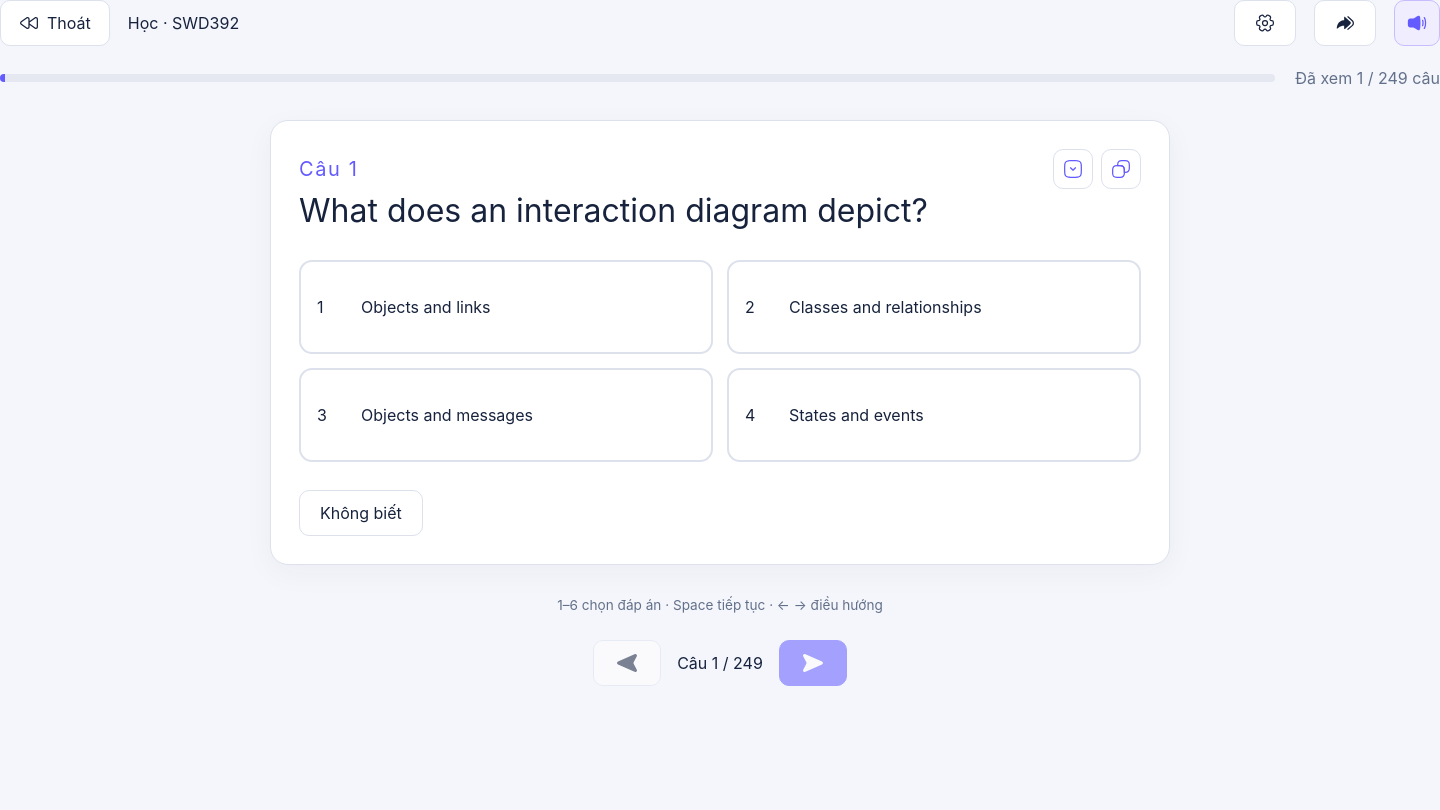
Test: StudyShell interactions and sound › restores focus, closes with Escape, traps Tab, and exposes progress semantics
The width and height of the screenshot is (1440, 810).
Expected: the text "Câu 1" is shown, [299,154,358,184]
Click the button named "Cài đặt" at [1265, 23], box [1234,0,1296,46]
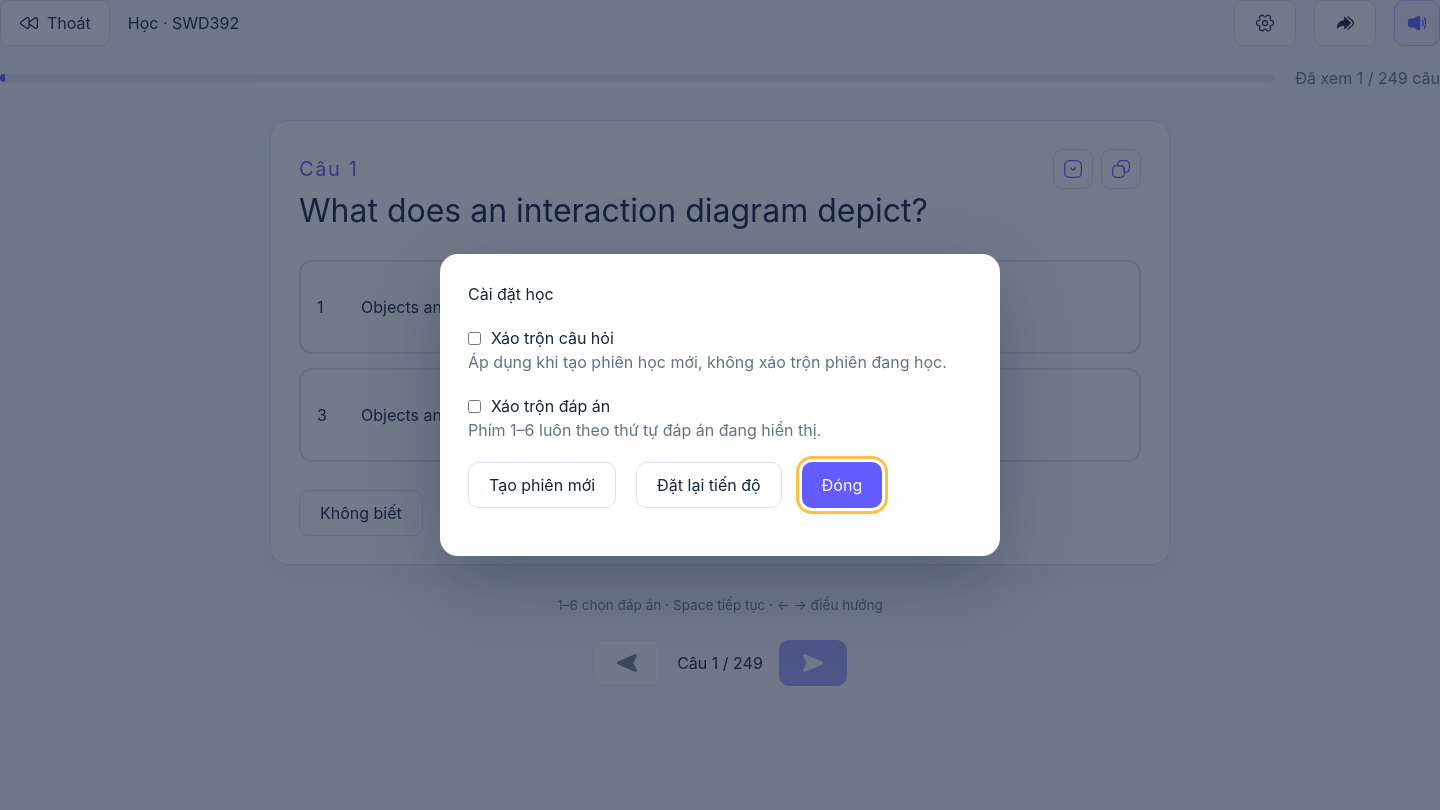
Press Tab
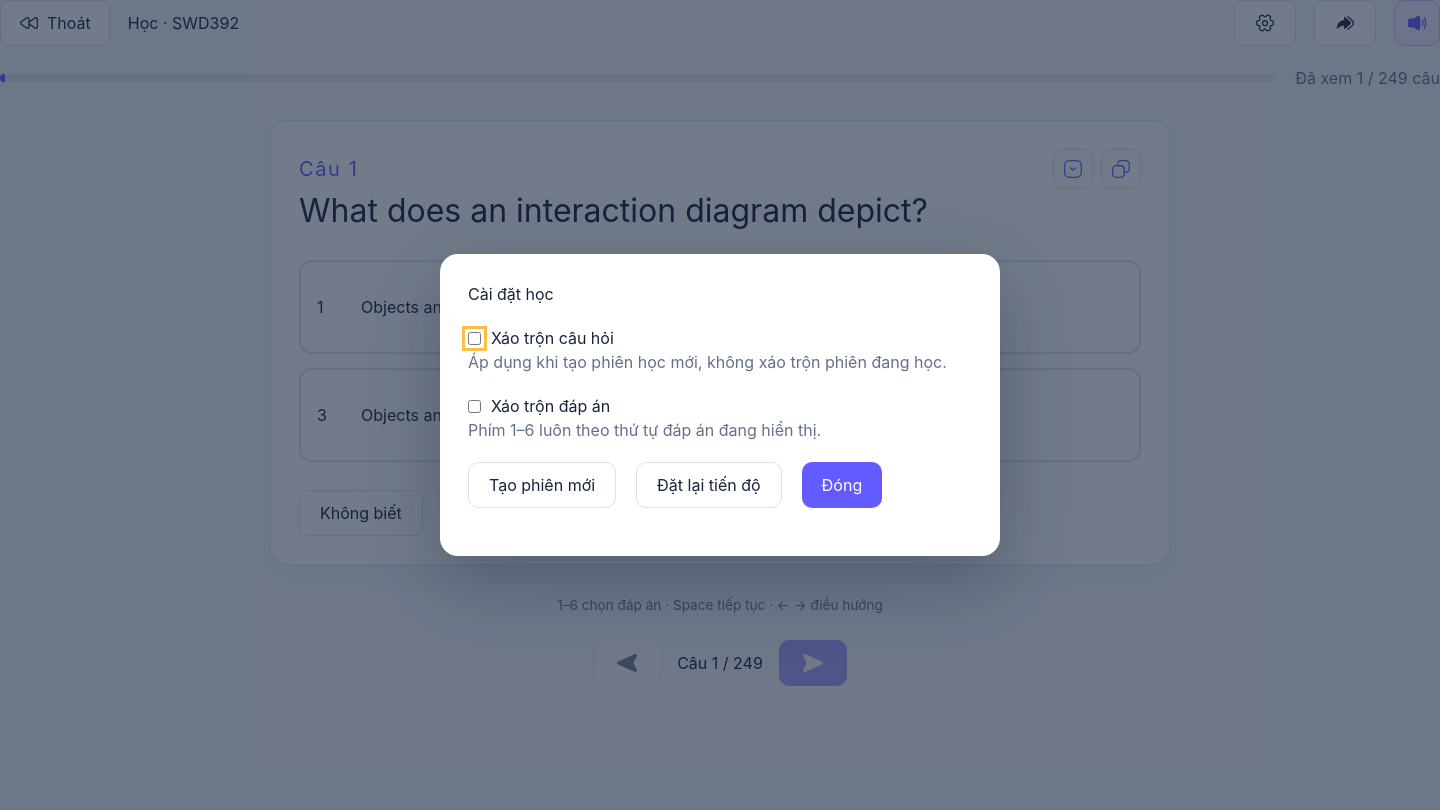
Press Escape
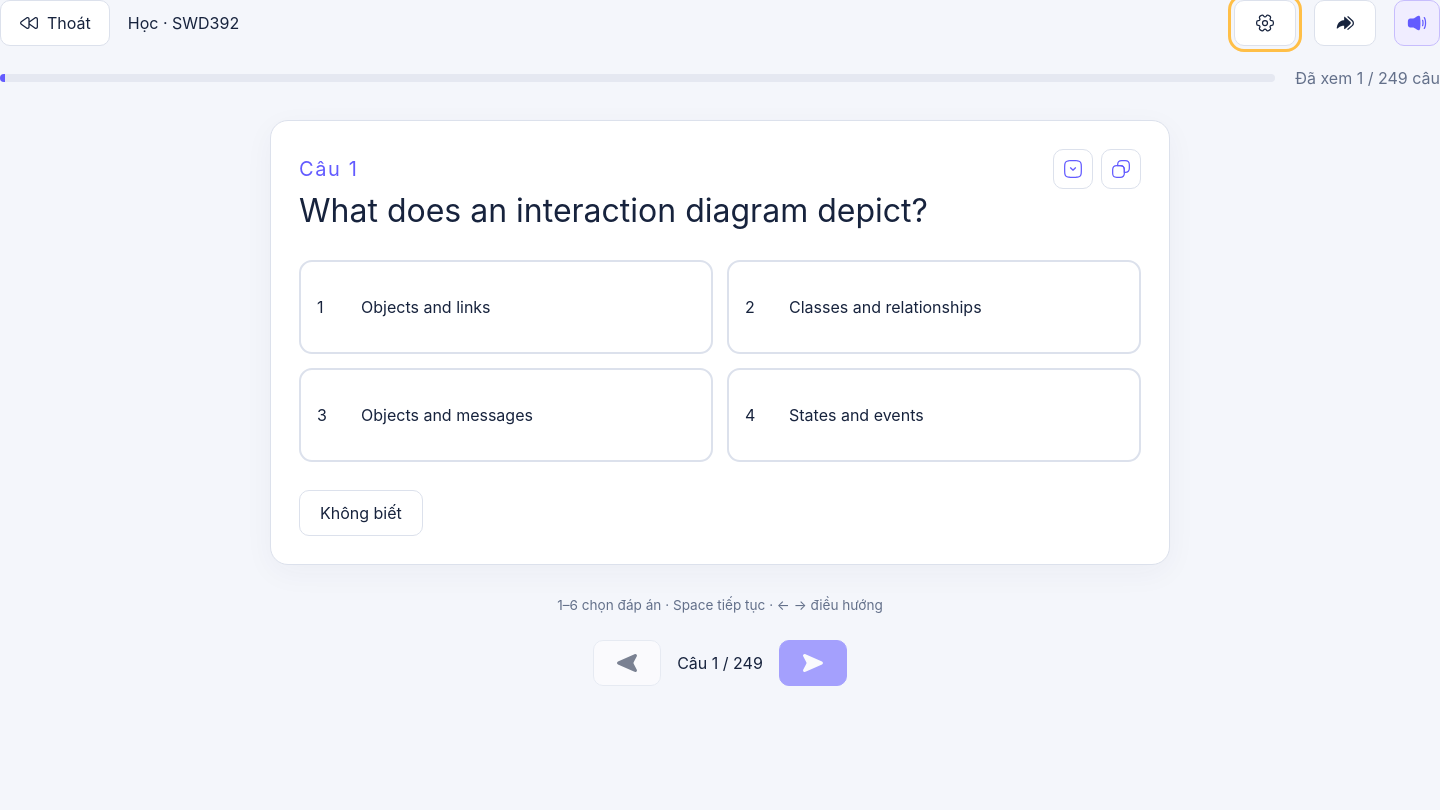
Expected: the text "Đã xem 1 / 249 câu" is shown, [1295,66,1439,90]
Result: the dialog is gone
